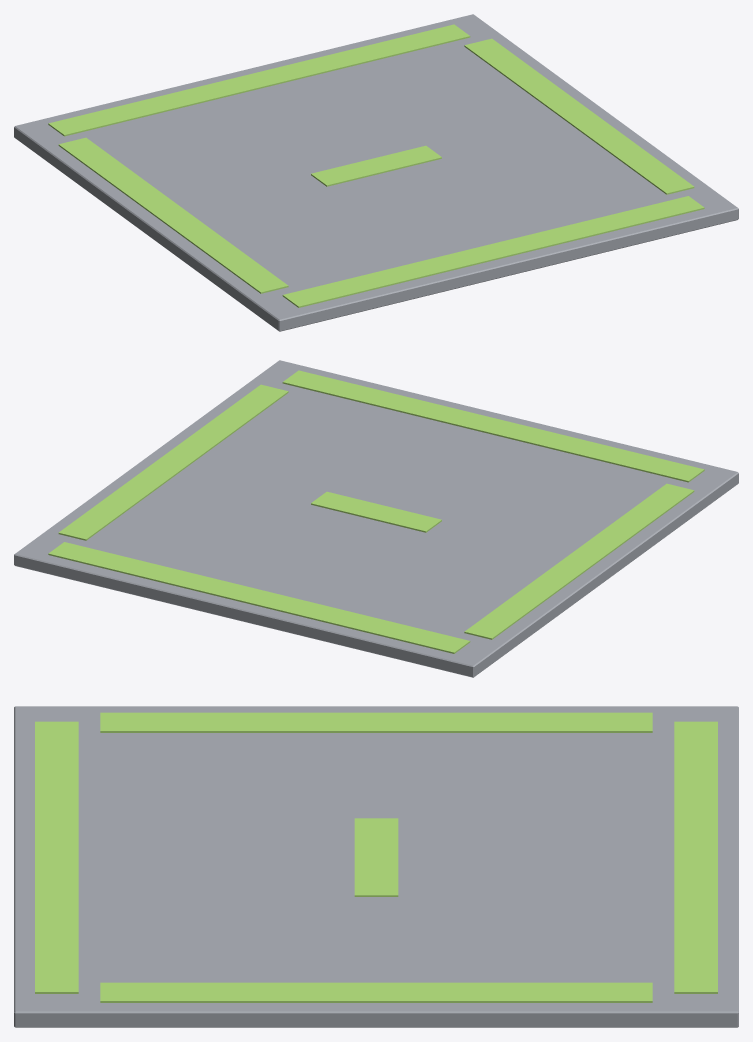
Rendered from trampoline-park-and-soft-play-park-floor-tile-fb439b1b__34629.glb.
3 renders of one model, top to bottom at view 1: azimuth 30°, elevation 25°; view 2: azimuth 150°, elevation 25°; view 3: azimuth 270°, elevation 25°, orthographic. The views are drawn at different scales.
Visible parts, largest first — view 1: park-floor-tile; view 2: park-floor-tile; view 3: park-floor-tile.
Part boxes in pixels (<box>): park-floor-tile: <box>14,14,738,331</box>; park-floor-tile: <box>14,360,738,677</box>; park-floor-tile: <box>14,706,738,1027</box>.
Size of the model in its own units: 2 by 0.056 by 2.
